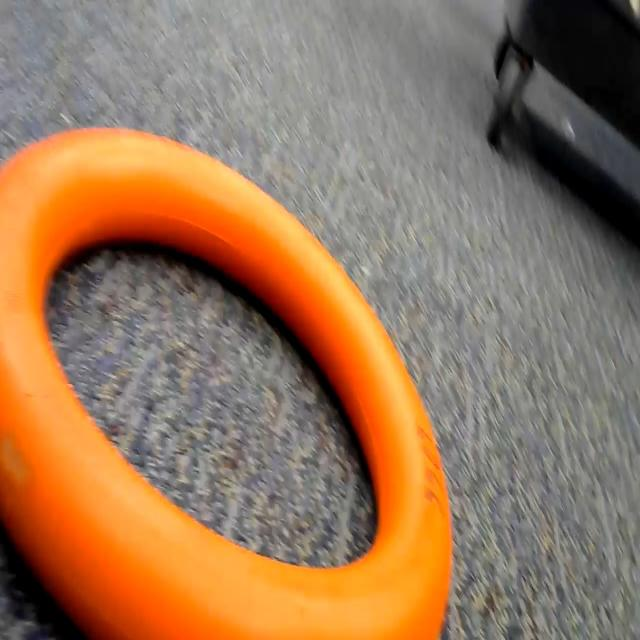note: (0, 123, 463, 639)
